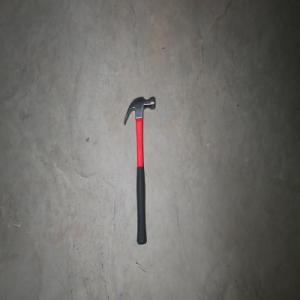Hammer: (123, 95, 155, 245)
